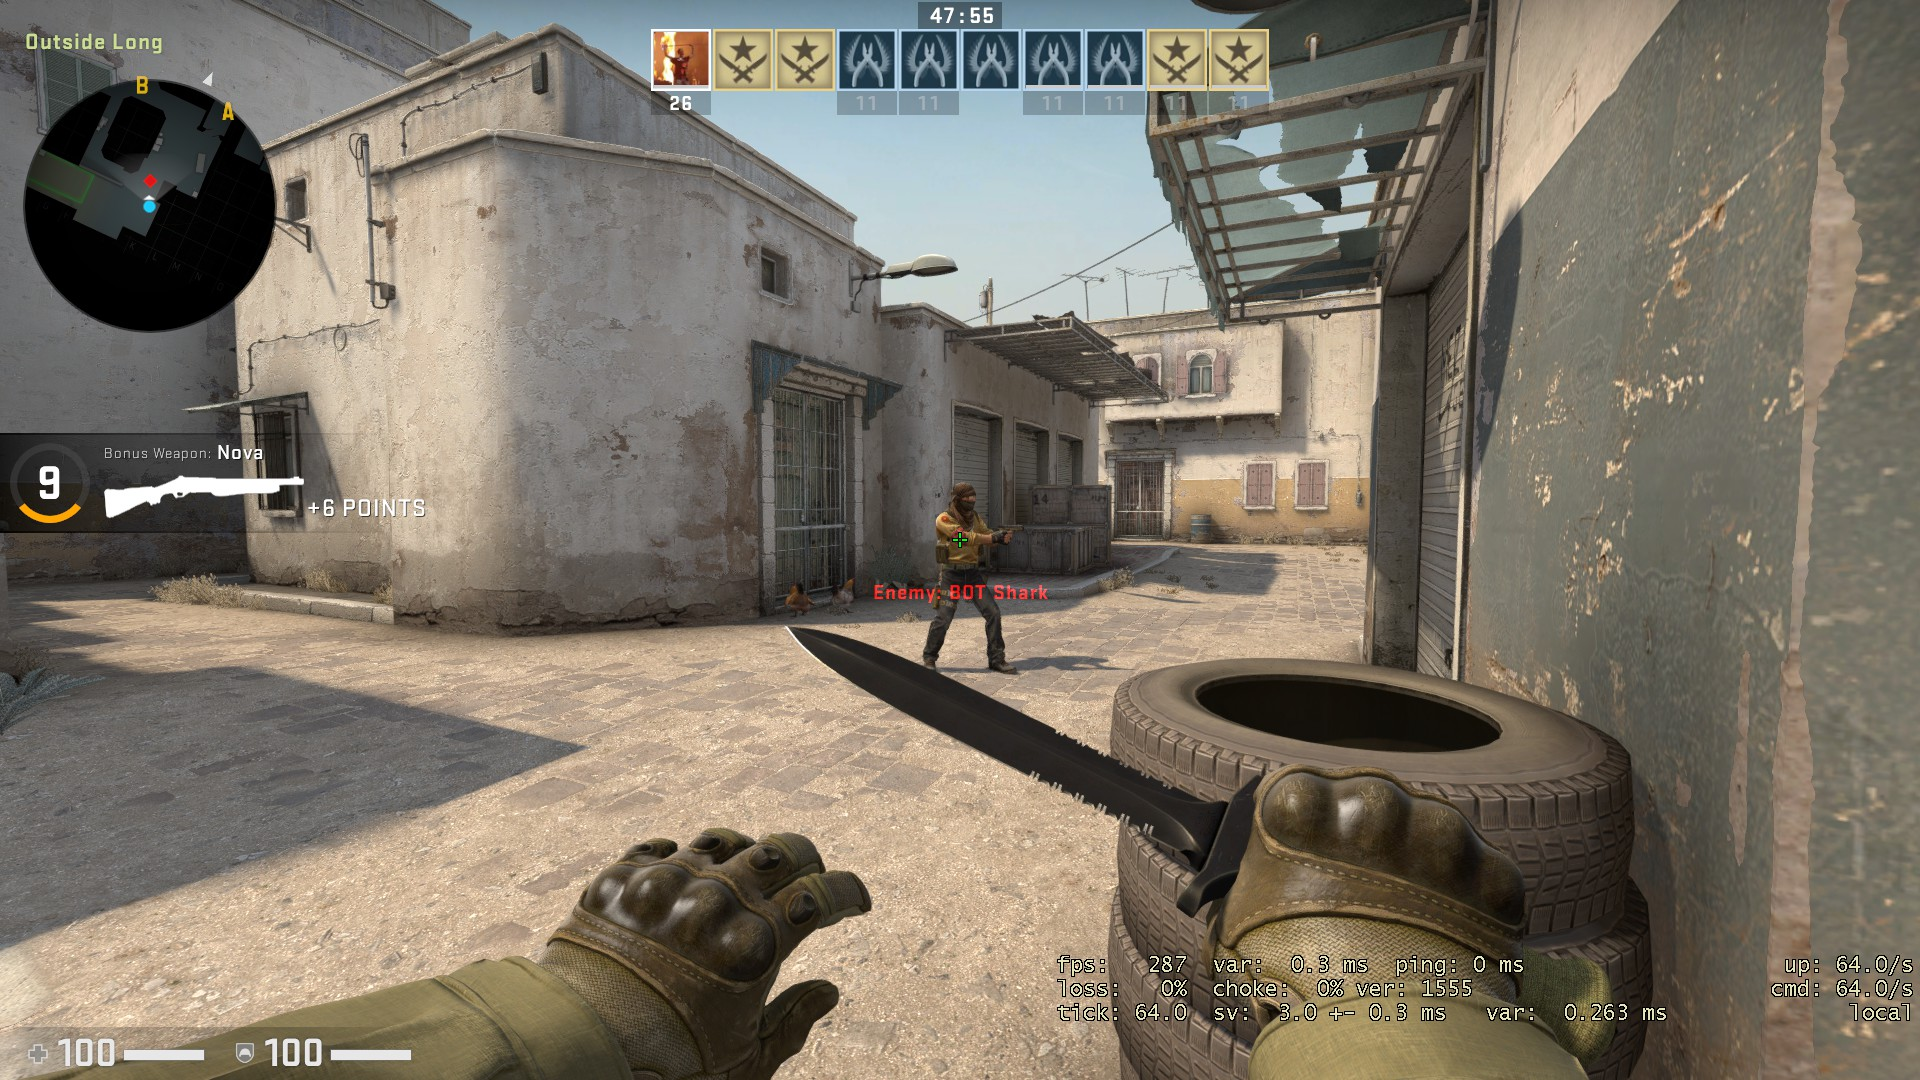player: (915, 476, 1026, 683)
